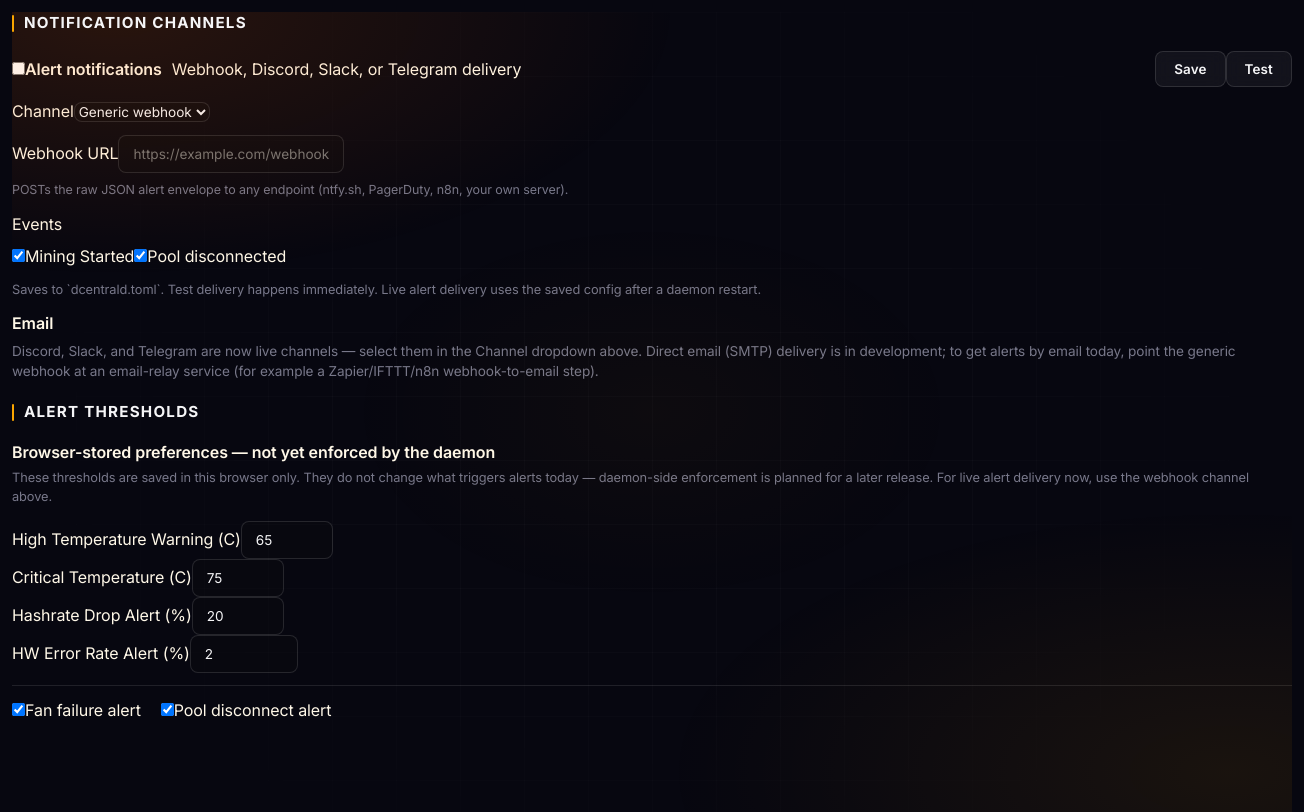
Test: NotificationSettings — per-channel webhook format selector › switches to Telegram bot token + chat id fields and hides the URL field
Select "Telegram" in the dropdown labelled "Channel": (142, 112) [74, 102, 210, 122]
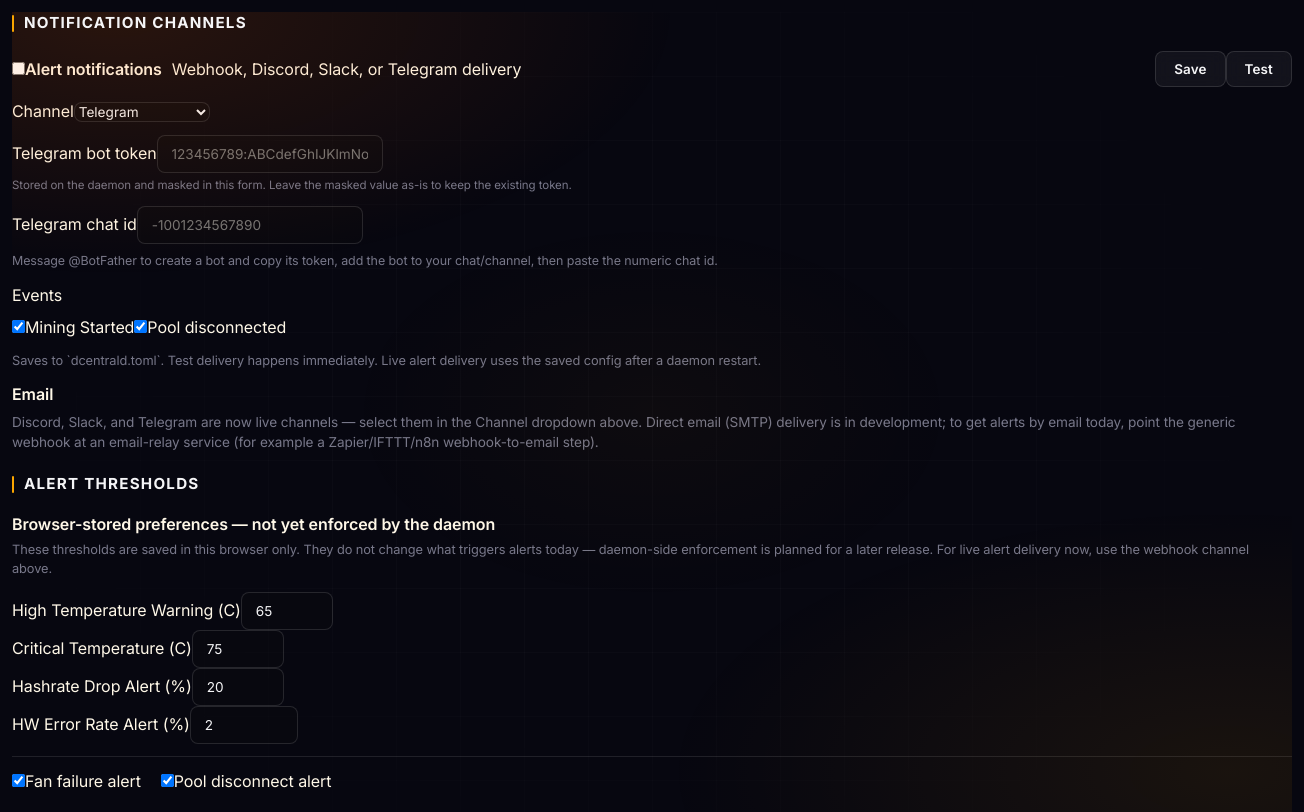
Check: the password field labelled "Telegram bot token" is shown, box [156, 135, 382, 173]
Check: the field labelled "Telegram chat id" is shown, box [137, 206, 363, 244]
Check: the label labelled "Webhook URL" is gone
